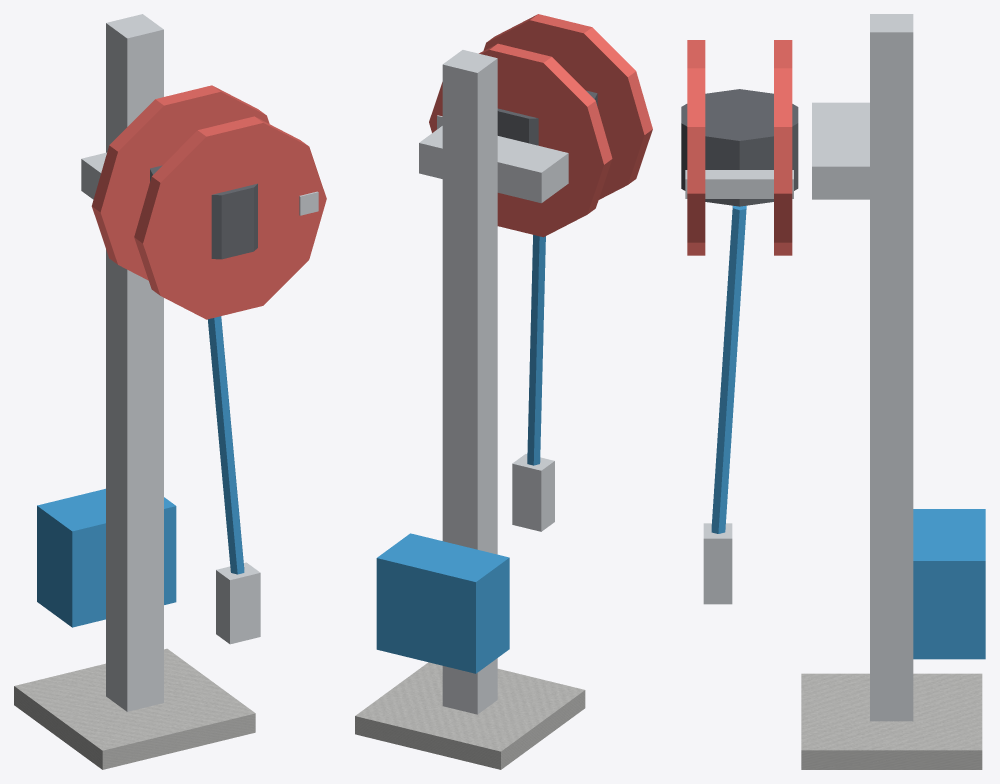
Rendered from go-kart-track-and-pit-lane-air-line-reel-b883dc85__34353.glb.
3 renders of one model, left to right at view 1: azimuth 30°, elevation 25°; view 2: azimuth 150°, elevation 25°; view 3: azimuth 270°, elevation 25°, orthographic. The views are drawn at different scales.
Parts seen in each view (by area): view 1: reel/red, air-line-reel-steel, air-line-reel-concrete, air-line-reel-azure, reel/charcoal; view 2: air-line-reel-steel, reel/red, air-line-reel-azure, air-line-reel-concrete, reel/charcoal; view 3: air-line-reel-steel, air-line-reel-azure, air-line-reel-concrete, reel/red, reel/charcoal, reel/steel.
Boxes of the visible parts, bbox=[...] form: reel/red: bbox=[91, 85, 326, 319]; air-line-reel-steel: bbox=[81, 14, 260, 711]; air-line-reel-concrete: bbox=[14, 648, 255, 769]; air-line-reel-azure: bbox=[37, 316, 244, 627]; reel/charcoal: bbox=[150, 165, 257, 259]; air-line-reel-steel: bbox=[419, 50, 568, 714]; reel/red: bbox=[429, 14, 652, 237]; air-line-reel-azure: bbox=[376, 235, 545, 673]; air-line-reel-concrete: bbox=[355, 662, 585, 769]; reel/charcoal: bbox=[497, 90, 597, 145]; air-line-reel-steel: bbox=[703, 14, 913, 721]; air-line-reel-azure: bbox=[711, 205, 985, 659]; air-line-reel-concrete: bbox=[801, 673, 982, 769]; reel/red: bbox=[687, 40, 792, 255]; reel/charcoal: bbox=[681, 89, 798, 206]; reel/steel: bbox=[685, 170, 793, 198].
Bounding box in the file's own units: 0.6 × 2.16 × 0.8417.
5 materials, 1 textured.
